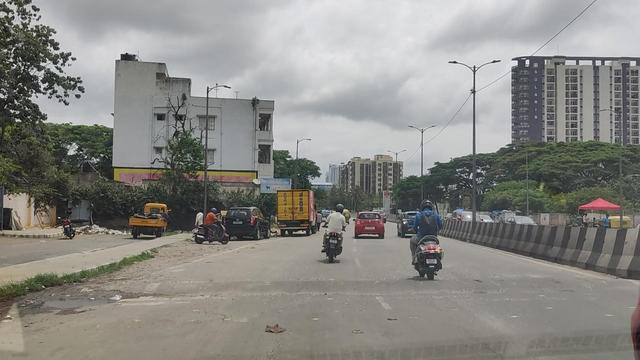HMV: (279, 190, 314, 231)
LMV: (409, 202, 441, 274), (326, 205, 346, 259), (356, 214, 383, 237)
RoadDamages: (57, 279, 183, 310), (7, 285, 56, 326)
SpeedBump: (148, 272, 602, 298)
